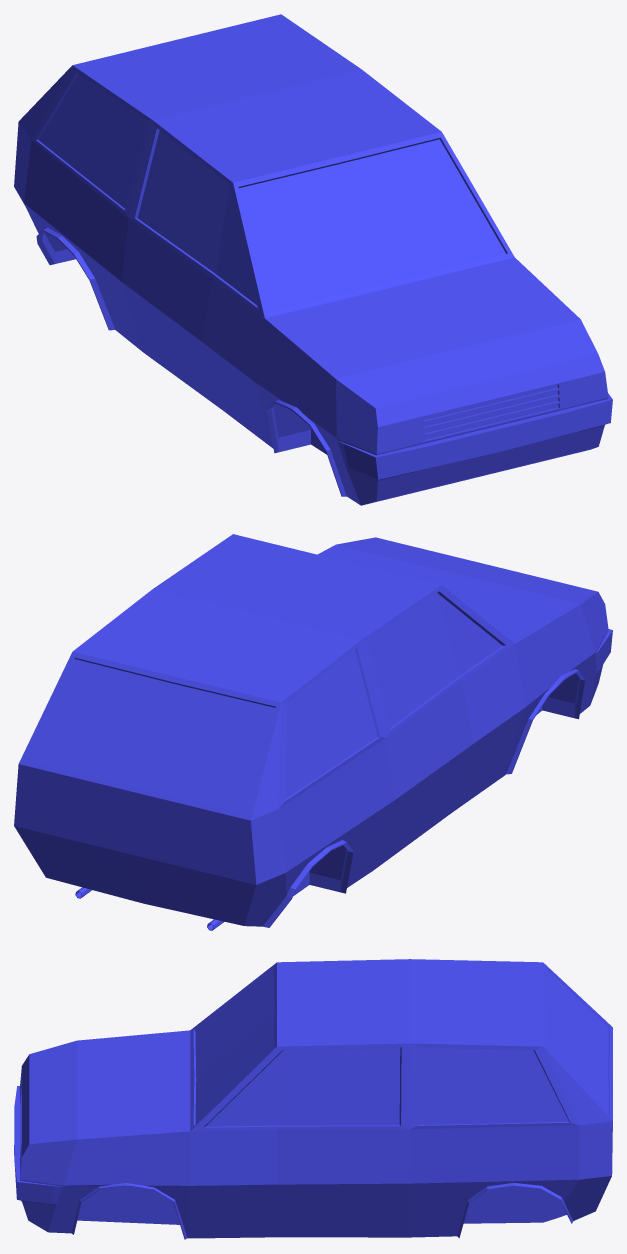
File: car_body.glb
3 views of the same model, one above another, from view 1: azimuth 30°, elevation 25°; view 2: azimuth 150°, elevation 25°; view 3: azimuth 270°, elevation 25° (orthographic). The views are drawn at different scales.
Parts seen in each view (by area): view 1: CarBody; view 2: CarBody; view 3: CarBody.
Boxes of the visible parts, left/top/right/bottom form: CarBody: left=14, top=14, right=612, bottom=505; CarBody: left=14, top=534, right=612, bottom=930; CarBody: left=14, top=959, right=612, bottom=1239.
Size of the model in its own units: 1.49 by 1.2 by 3.42.
